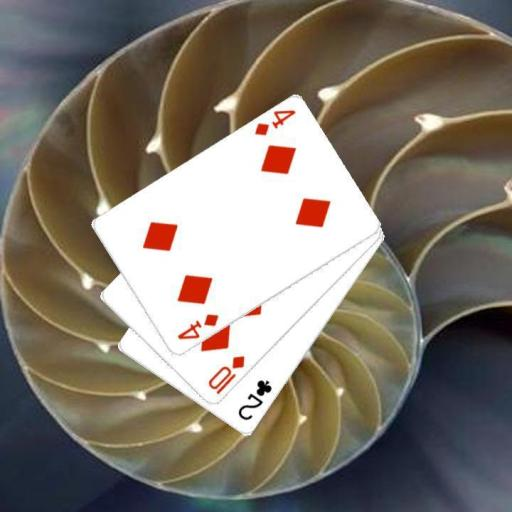card-corner: (205, 353, 247, 396), (234, 377, 274, 422), (250, 107, 298, 138), (174, 311, 220, 342)
